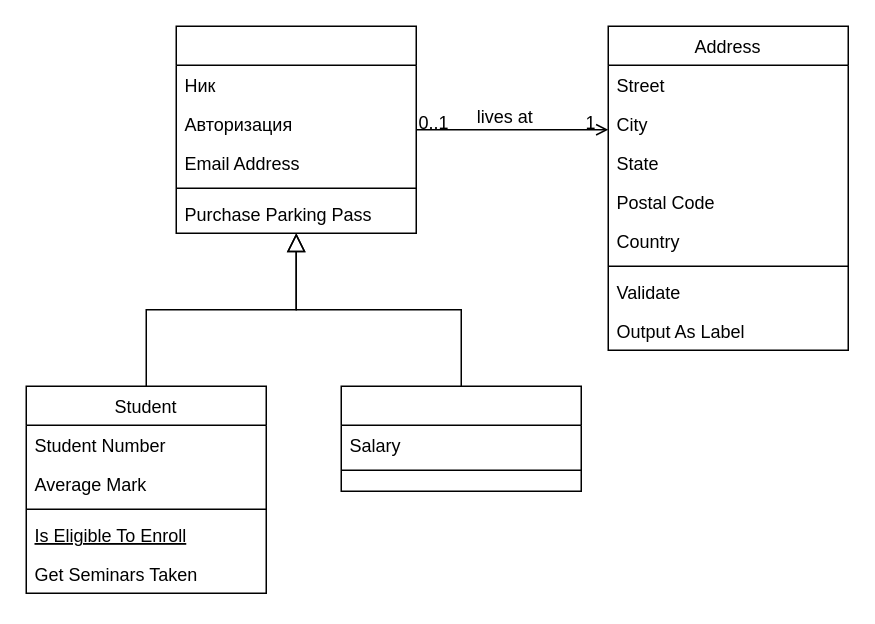
Some shapes in this 875 by 624 pixel diagram are drawn without their labels. Here are the shapes that lost their labels. From the top down, the box of each, then its label:
(175, 25, 416, 233): Игрок
(340, 385, 581, 491): Professor
